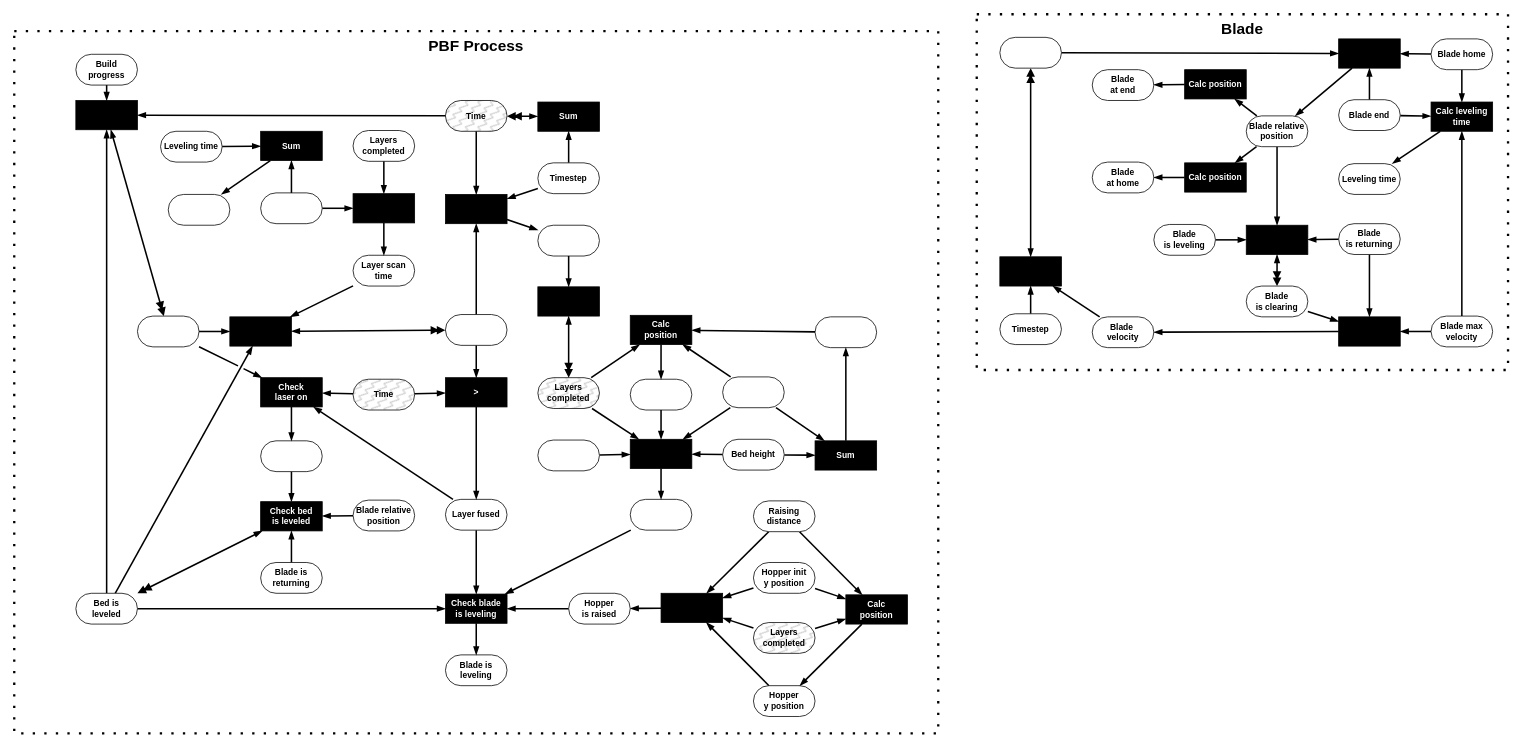
Image size: 1522x748. Some labels were removed from this diagram. Each missing label, with the centre of its shape:
Blade position: the point at 1030,52
Build time: the point at 198,209
Calc fusing end time: the point at 260,331
Calc fusing start time: the point at 106,115
Calc rel position: the point at 1369,53
Check blade is clearing: the point at 1276,239
Check event triggered: the point at 476,209
Check hopper is raised: the point at 691,608
Check plate at fusion level: the point at 660,454
Get velocity: the point at 1369,331
Index: the point at 383,208
Integrate: the point at 1030,271
Laser is on: the point at 291,456
Layer just fused: the point at 568,240
Layer scan times: the point at 291,208
Lowering distance: the point at 753,392
Machine tolerance: the point at 568,455
Plate at fusion level: the point at 660,514
Plate init y position: the point at 845,332
Plate y position: the point at 660,394
Same or Increment: the point at 568,301
Scan end time: the point at 476,329
Scan start time: the point at 168,331
